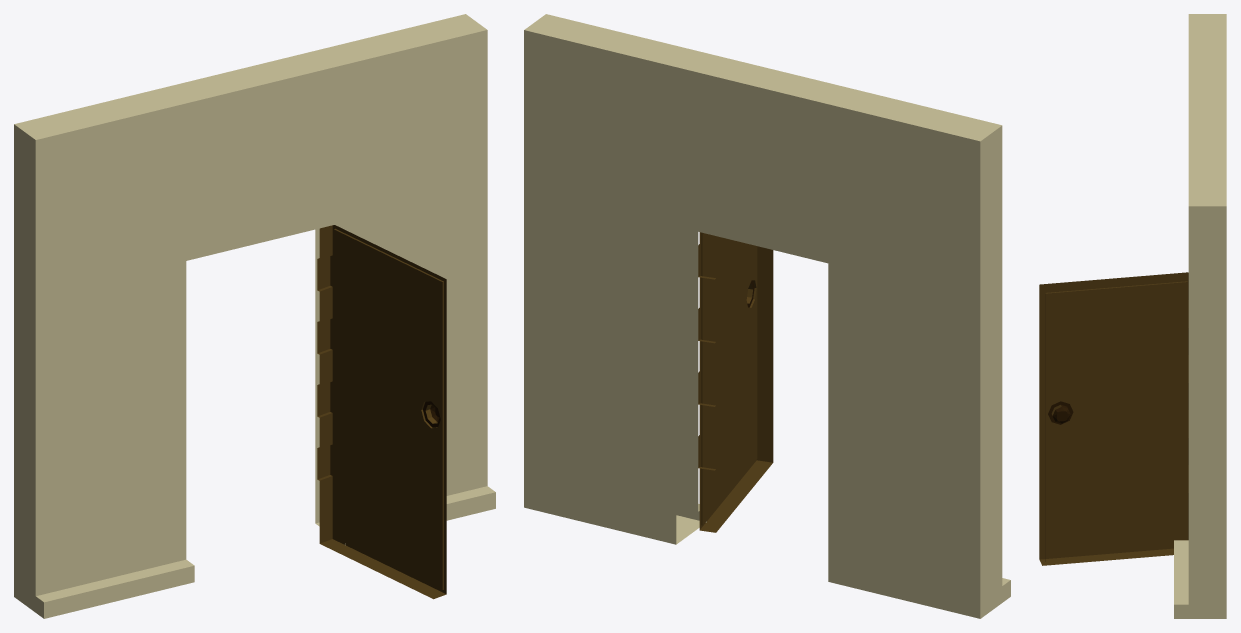
Rendered from door.fbx.
3 renders of one model, left to right at view 1: azimuth 30°, elevation 25°; view 2: azimuth 150°, elevation 25°; view 3: azimuth 270°, elevation 25°, orthographic. The views are drawn at different scales.
Visible parts, largest first — view 1: Plane; view 2: Plane; view 3: Plane.
Boxes of the visible parts, x1,y1,x2,y2 form: Plane: (14, 14, 495, 618); Plane: (524, 14, 1010, 618); Plane: (1039, 14, 1226, 618).
Size of the model in its own units: 600 by 600 by 247.
